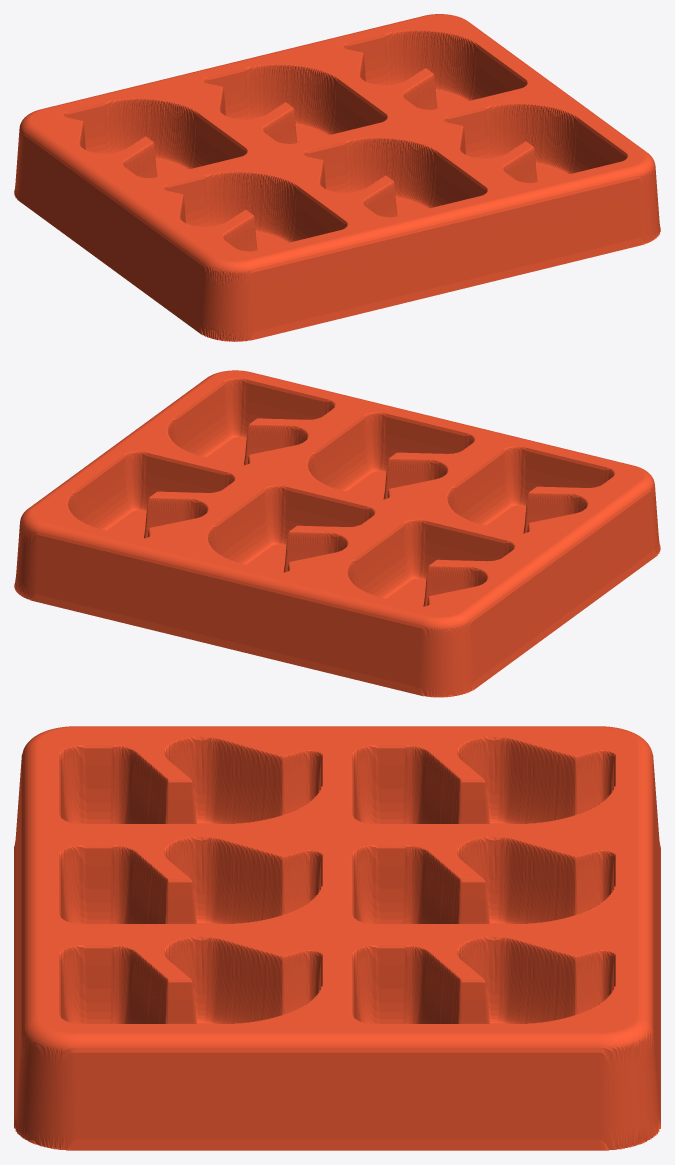
File: mold.glb
3 renders of one model, top to bottom at view 1: azimuth 30°, elevation 25°; view 2: azimuth 150°, elevation 25°; view 3: azimuth 270°, elevation 25°, orthographic. The views are drawn at different scales.
Visible parts, largest first — view 1: geometry_0; view 2: geometry_0; view 3: geometry_0.
Boxes of the visible parts, x1,y1,x2,y2 form: geometry_0: (14,14,660,341); geometry_0: (14,370,660,697); geometry_0: (14,726,660,1150).
Bounding box in the file's own units: 0.1137 × 0.0175 × 0.0955.
